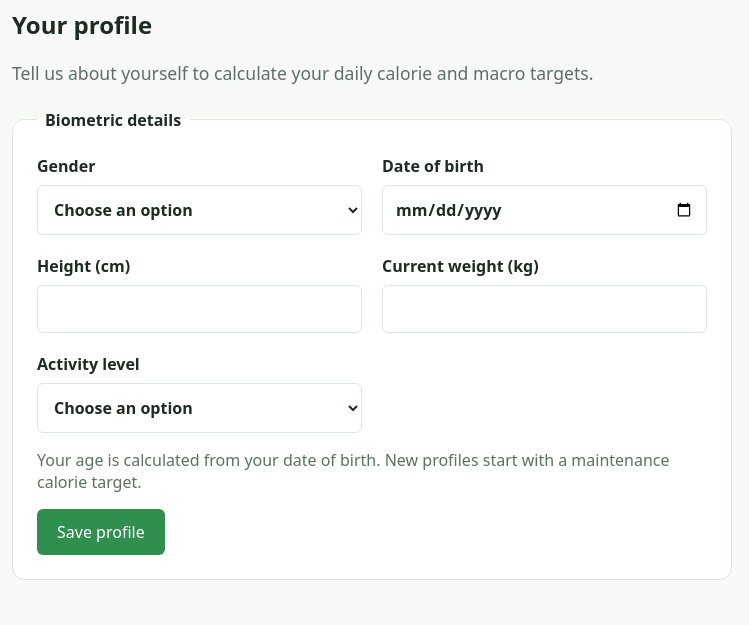
it: rejects invalid weight -10 without saving
Select "Male" in the dropdown labelled "Gender". click: [200, 210]
box: [37,185,362,235]
Type "2000-01-01" into the date field labelled "Date of birth". click: [544, 210]
box: [382,185,707,235]
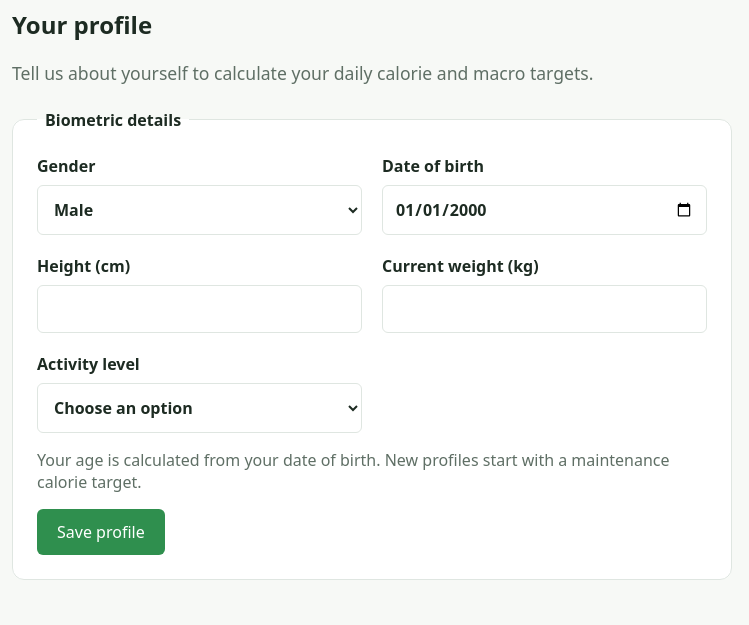
Type "180" into the number field labelled "Height (cm)". click: [200, 309]
box: [37,285,362,333]
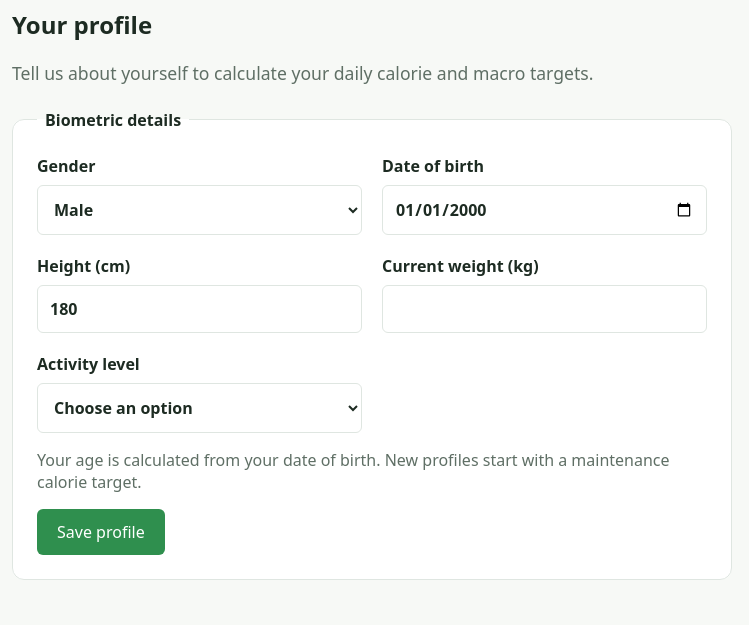
Type "72.5" into the number field labelled "Current weight (kg)". click: [544, 309]
box: [382,285,707,333]
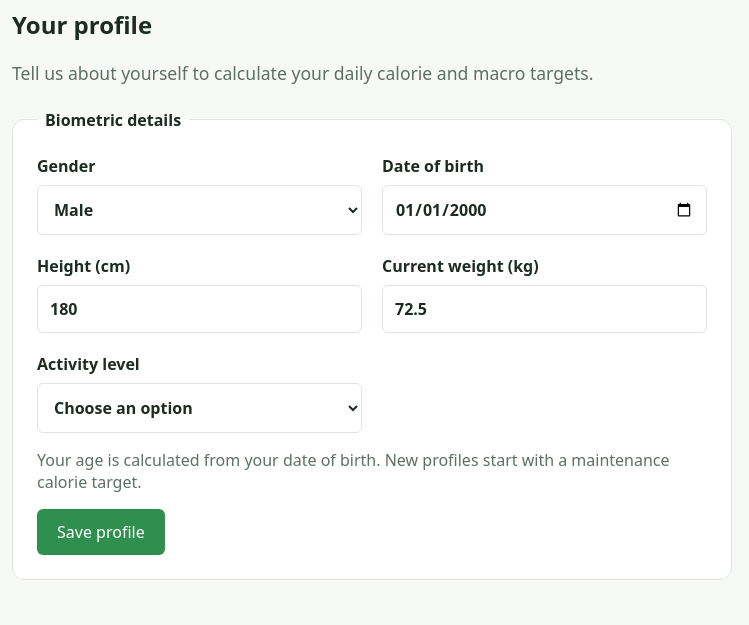
Select "Moderately active" in the dropdown labelled "Activity level". click: [200, 408]
box: [37,383,362,433]
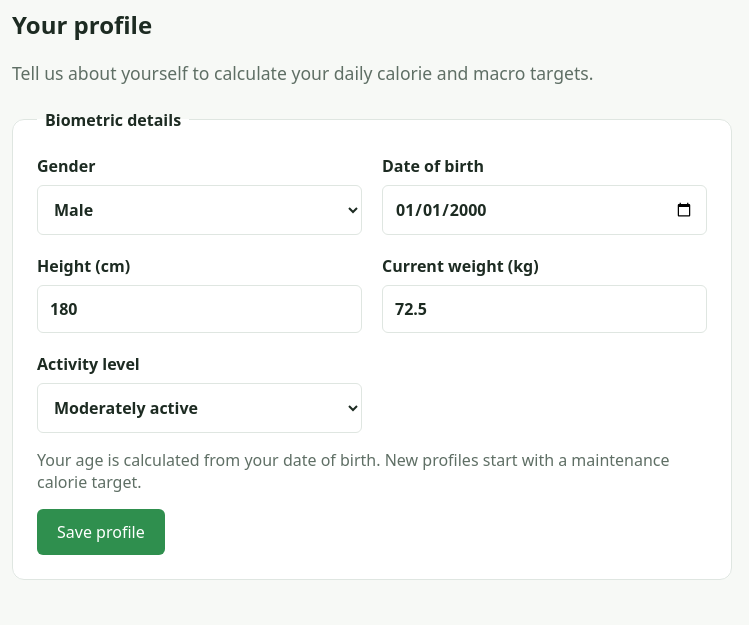
Replace the text in the number field labelled "Current weight (kg)" with "-10". click: [544, 309]
box: [382,285,707,333]
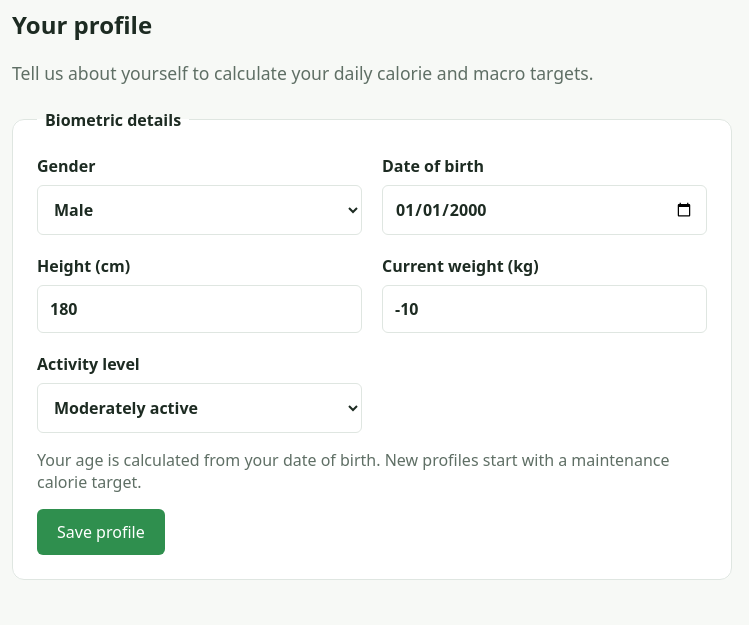
Click the button "Save profile". click: [101, 532]
box: [37,509,165,555]
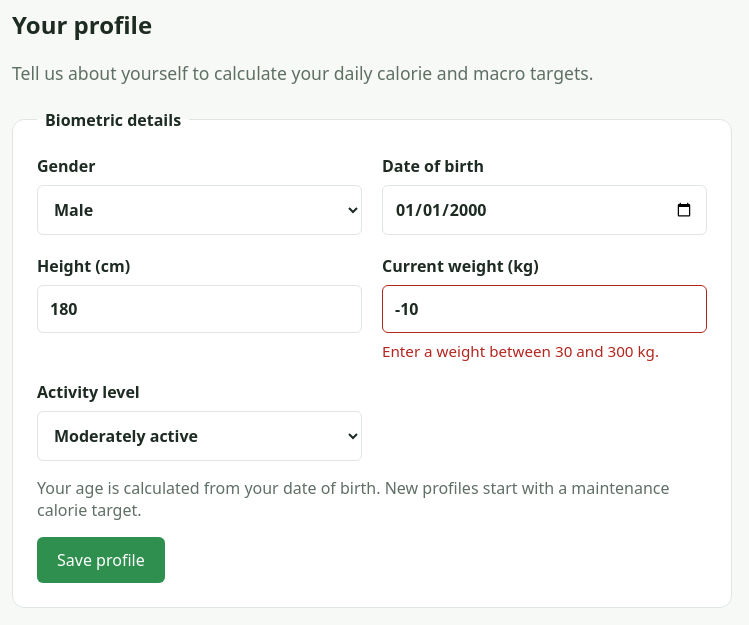
Check: the text "Enter a weight between 30 and 300 kg." is shown, box [382,341,707,361]
